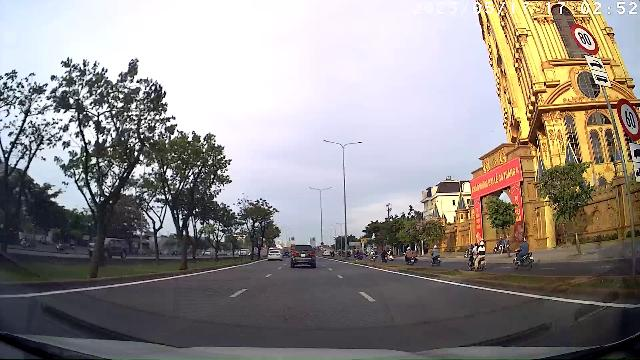127-toc-do-toi-da-60: (617, 97, 640, 141)
127-toc-do-toi-da-80: (571, 23, 599, 54)
